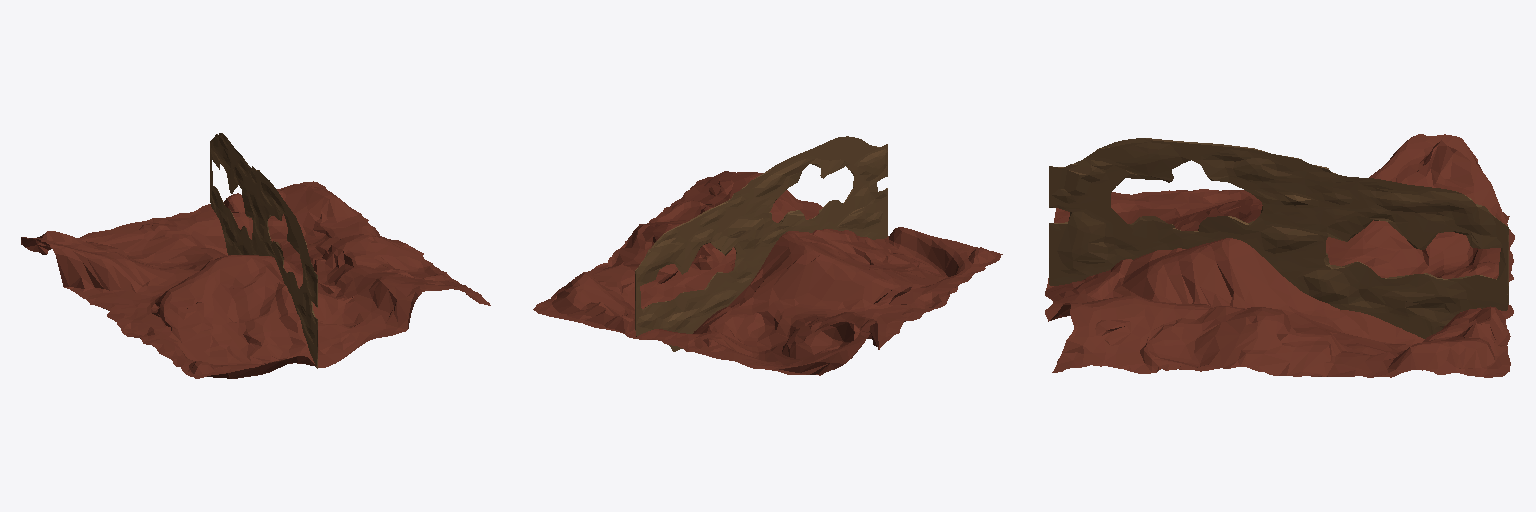
The robot description file, URDF, robot "obstacle":
<?xml version="1.0"?>
<robot name="obstacle">
  <link name="base_link">
    <inertial>
      <origin xyz="0 0 0" /> 
      <mass value="1.0" />
      <inertia  ixx="1.0" ixy="0.0"  ixz="0.0"  iyy="1.0"  iyz="0.0"  izz="1.0" />
    </inertial>
    <visual>
      <origin xyz="0 0 0"/>
      <geometry>
        <mesh filename="package://hpp-rbprm-corba/meshes/desert_for_kangaroo.dae"/>
      </geometry>
    </visual>
    <collision>
      <origin xyz="0 0 0"/>
      <geometry>
        <mesh filename="package://hpp-rbprm-corba/meshes/desert_for_kangaroo.stl"/>
      </geometry>
    </collision>
  </link>
</robot>

--- Render facts (derived) ---
The picture shows the robot from 3 angles, left to right: view 1: azimuth 30°, elevation 25°; view 2: azimuth 150°, elevation 25°; view 3: azimuth 270°, elevation 25°; orthographic projection.
Model obstacle with 1 links and 0 joints (none), rooted at base_link, posed all joints at 0.
Links seen in each view (by area): view 1: base_link; view 2: base_link; view 3: base_link.
Link boxes in pixels (box(x1,y1,x2,y2)): base_link: box(21, 133, 490, 378); base_link: box(533, 136, 1002, 375); base_link: box(1045, 134, 1514, 377).
Bounding box of the posed robot: 14.58 × 14.64 × 6.22 m (x, y, z).
1 mesh visuals loaded from 1 distinct referenced files (1 Collada DAE).